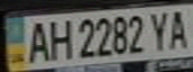2: (93, 14, 115, 58), (75, 15, 96, 60), (127, 11, 148, 55)
8: (112, 12, 133, 56)
A: (163, 7, 193, 51), (24, 17, 51, 63)
H: (45, 16, 72, 61)
Y: (148, 9, 172, 52)
